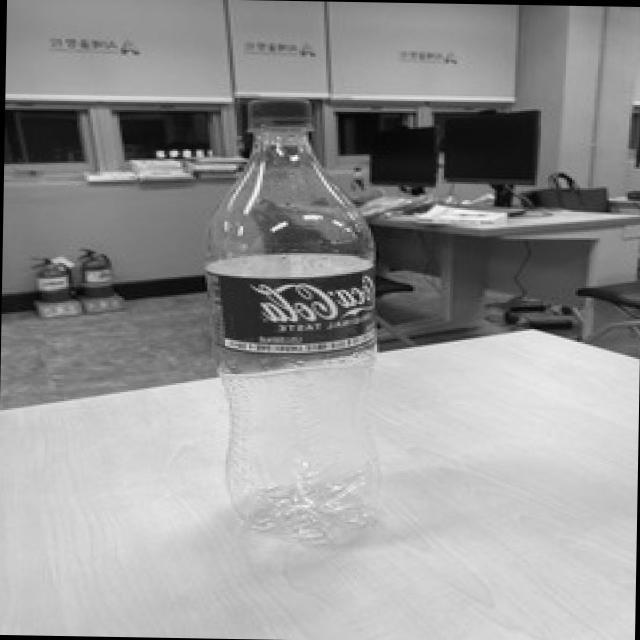good: (196, 83, 388, 564)
